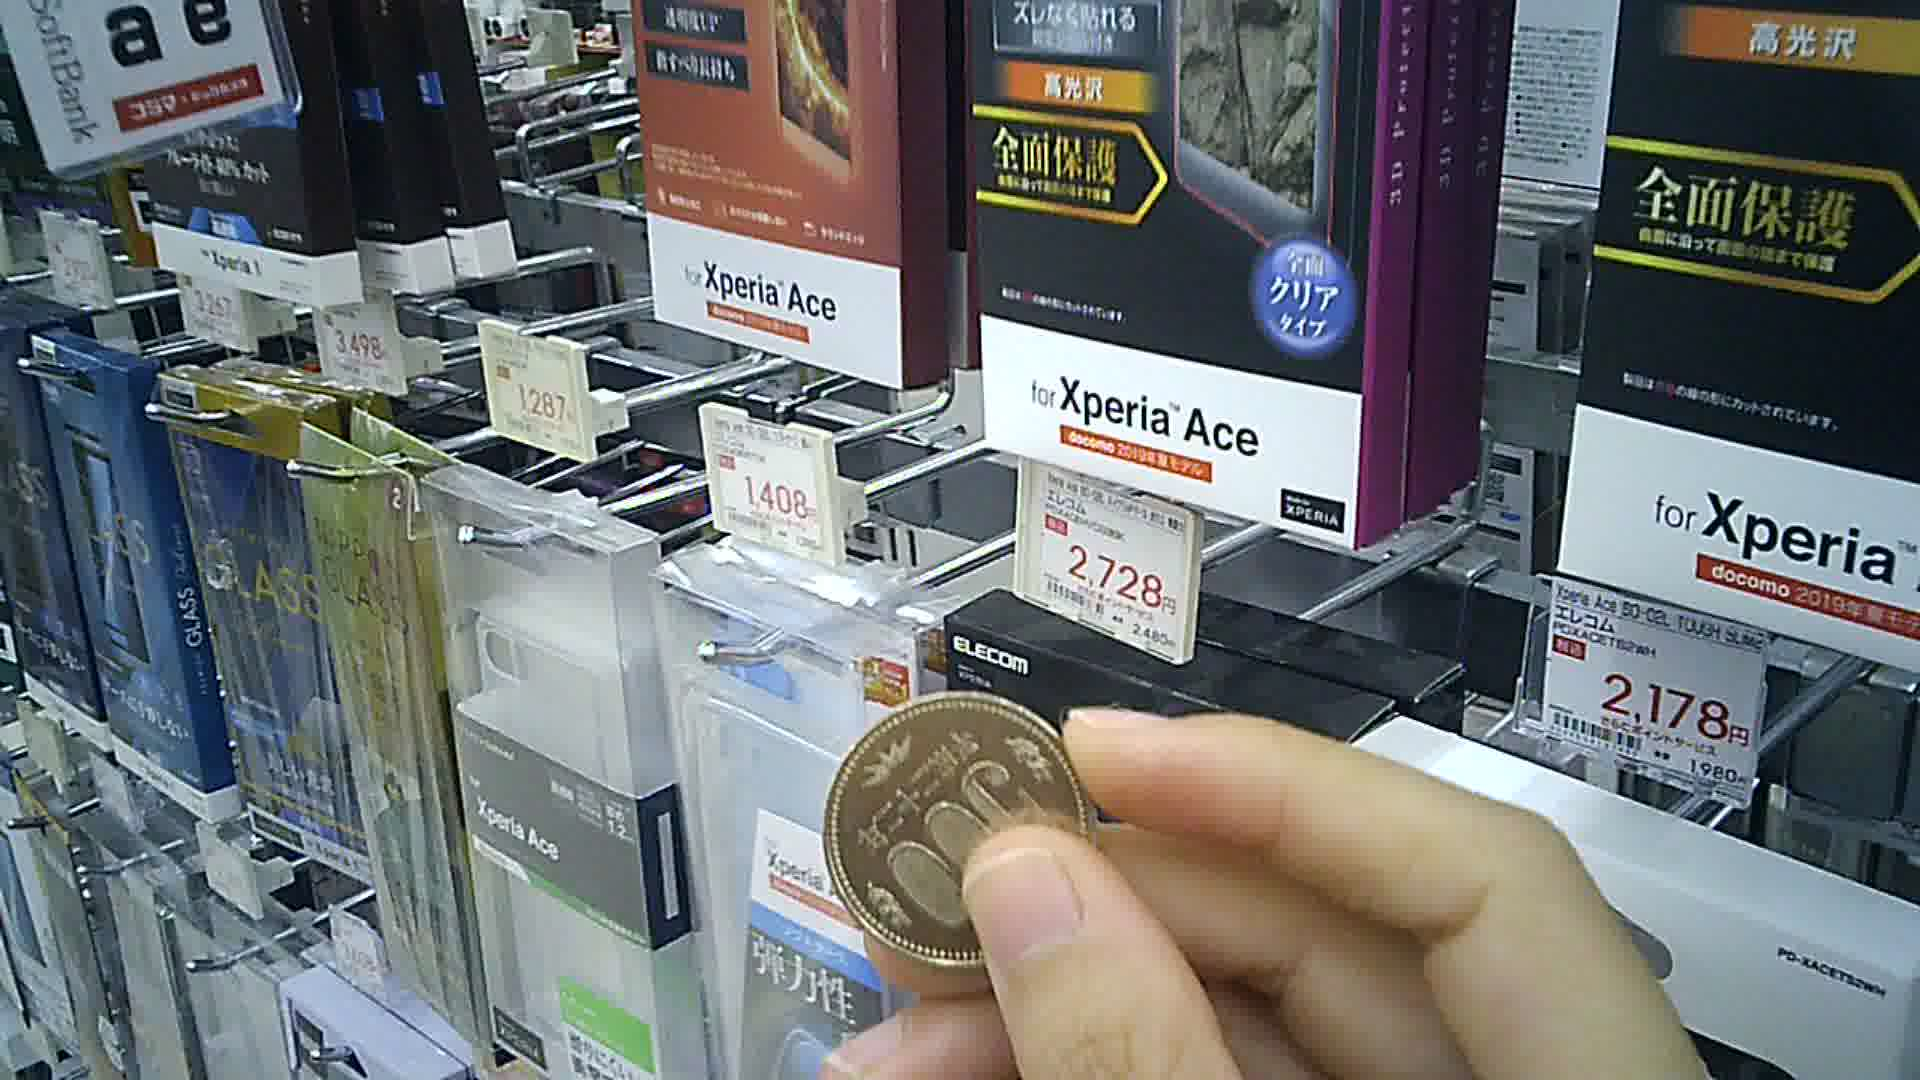500 Yen: (818, 684, 1092, 971)
